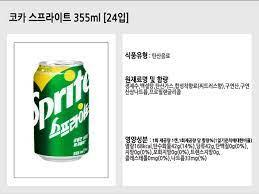sprite: (34, 57, 88, 163)
